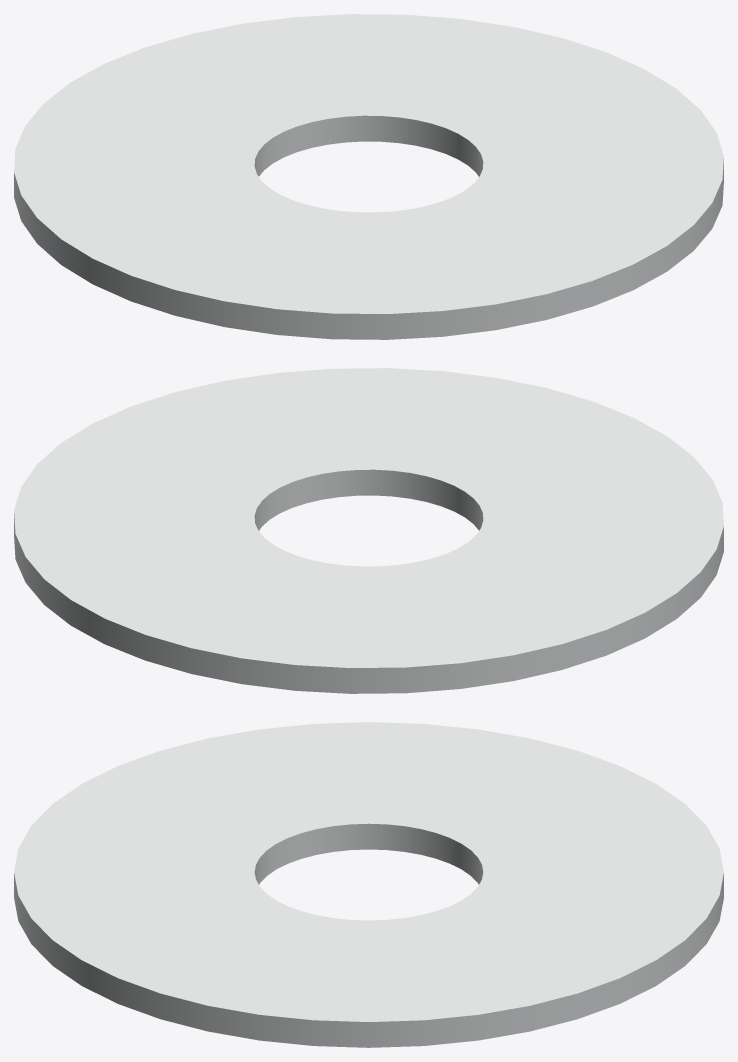
File: Platform.Cylinder.004.fbx
3 views of the same model, one above another, from view 1: azimuth 30°, elevation 25°; view 2: azimuth 150°, elevation 25°; view 3: azimuth 270°, elevation 25° (orthographic).
Visible parts, largest first — view 1: Platform.Cylinder.004; view 2: Platform.Cylinder.004; view 3: Platform.Cylinder.004.
Part boxes in pixels (x1,y1,x2,y2): Platform.Cylinder.004: [14, 14, 723, 339]; Platform.Cylinder.004: [14, 368, 723, 693]; Platform.Cylinder.004: [14, 722, 723, 1047].
Bounding box in the file's own units: 25 × 1 × 25.
